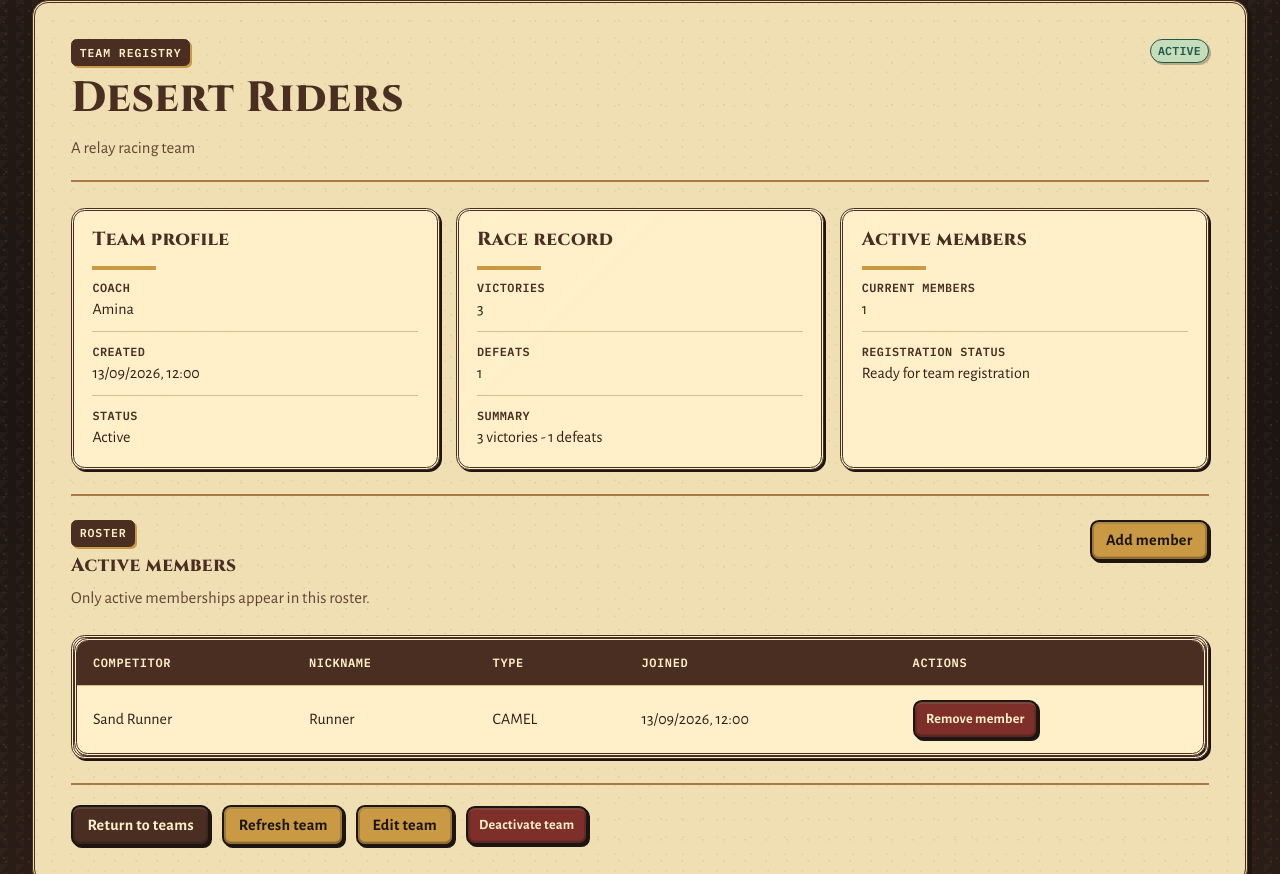
Test case: TeamDetailPage › adds an available active competitor
The image size is (1280, 874).
Step 1. Click the button "Add member" → {"x": 1149, "y": 540}, box [1090,520,1209,561]
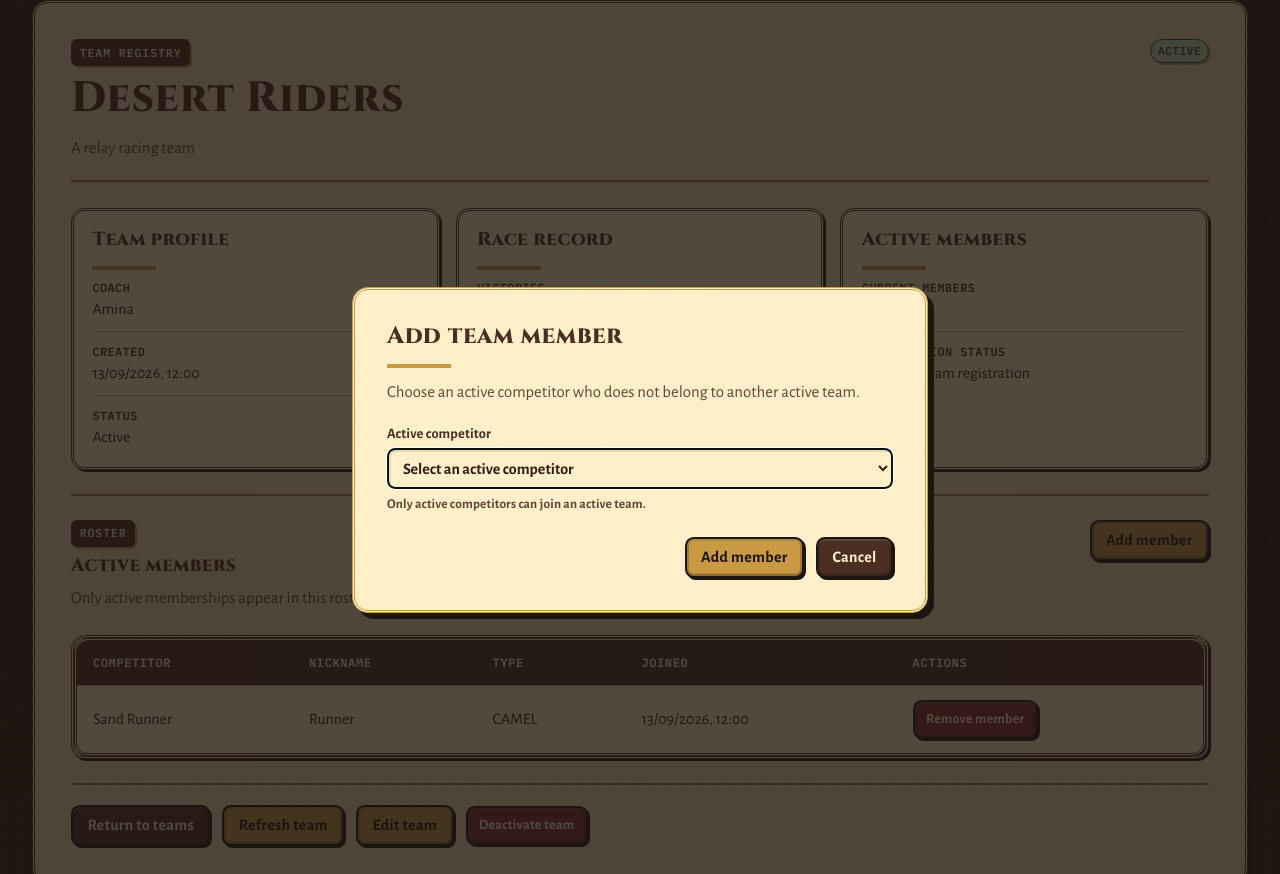
Step 2. Select "Moon Walker (Moon) - CAMEL" in the dropdown labelled "Active competitor" → {"x": 640, "y": 469}, box [387,448,893,489]
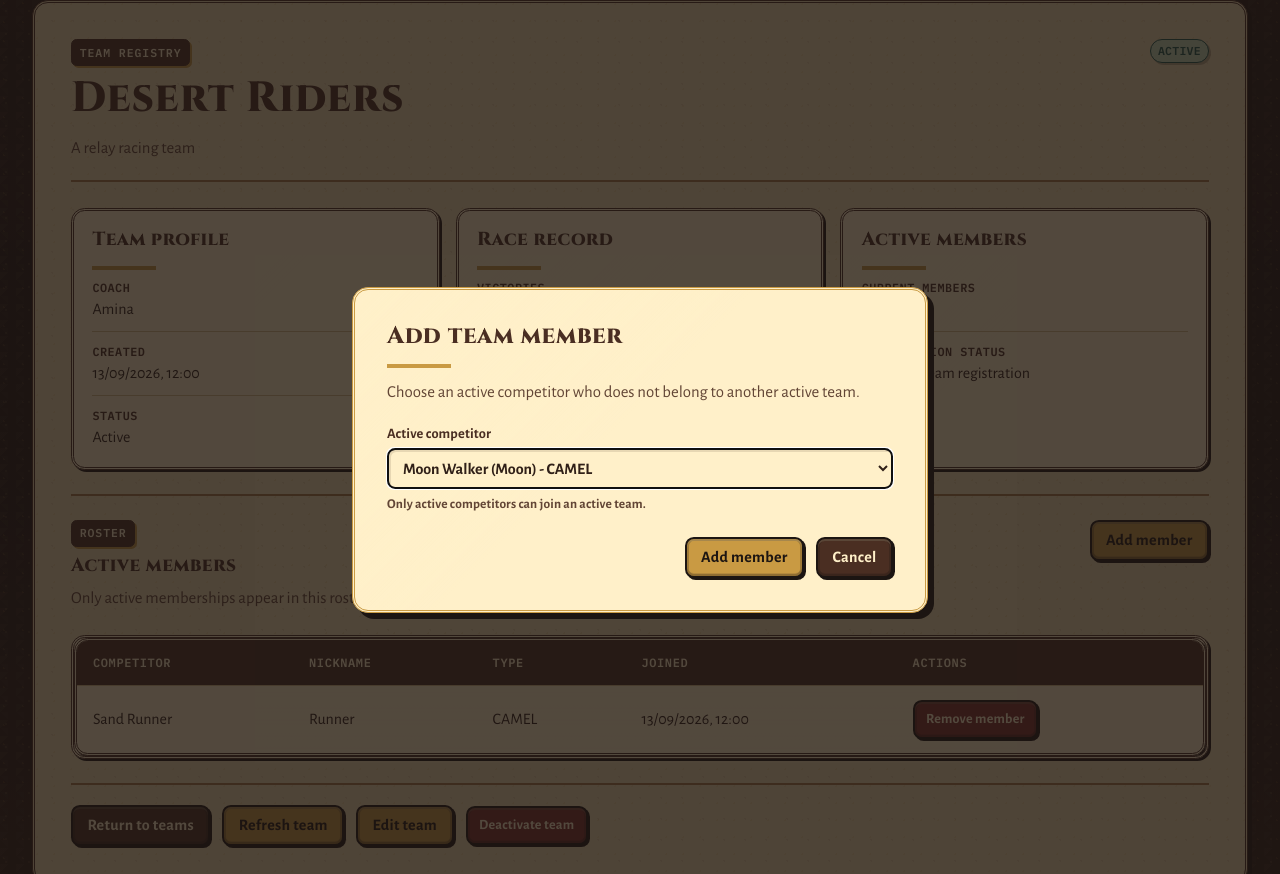
Step 3. Click the button "Add member" → {"x": 744, "y": 557}, box [685,537,804,578]
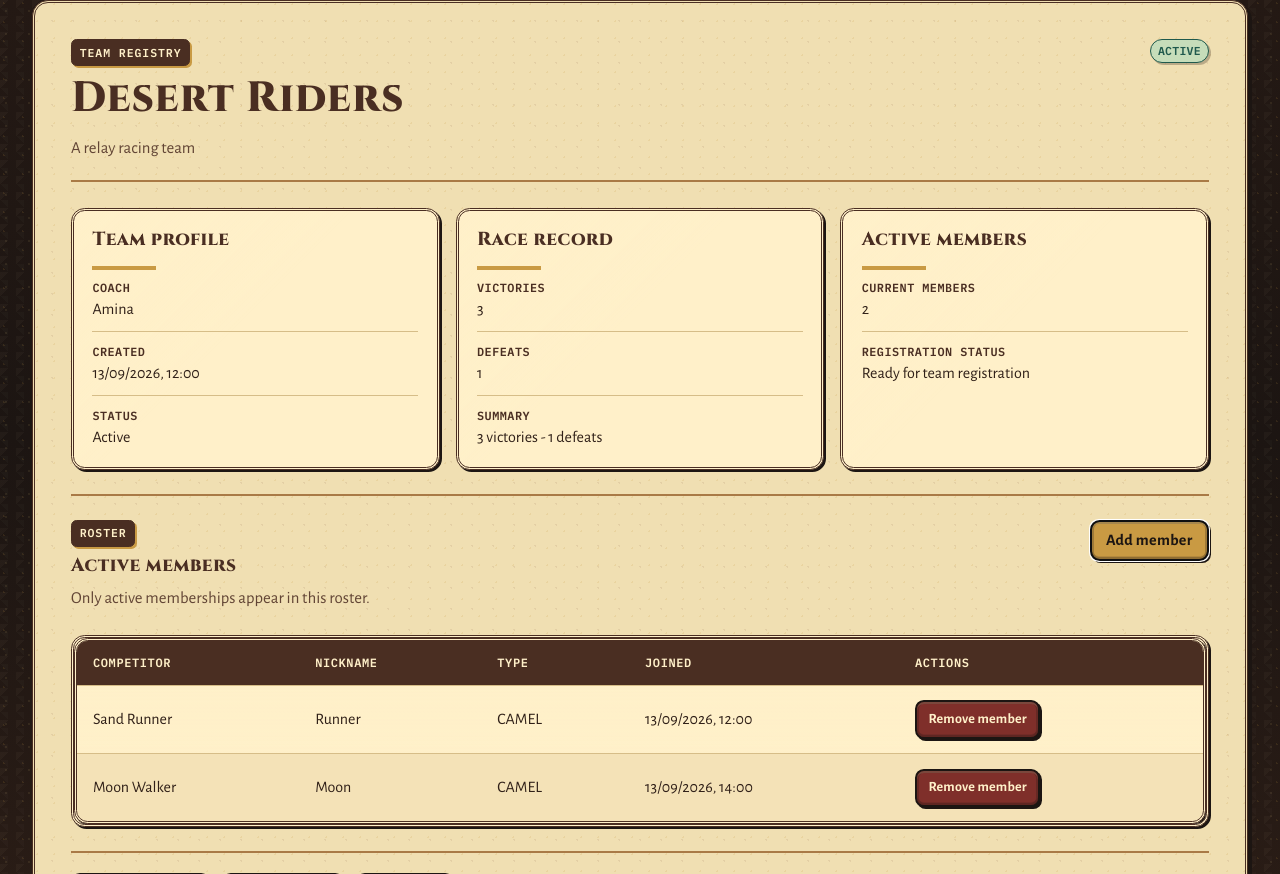
Result: the text "Moon Walker" is shown at [77,754,299,821]
